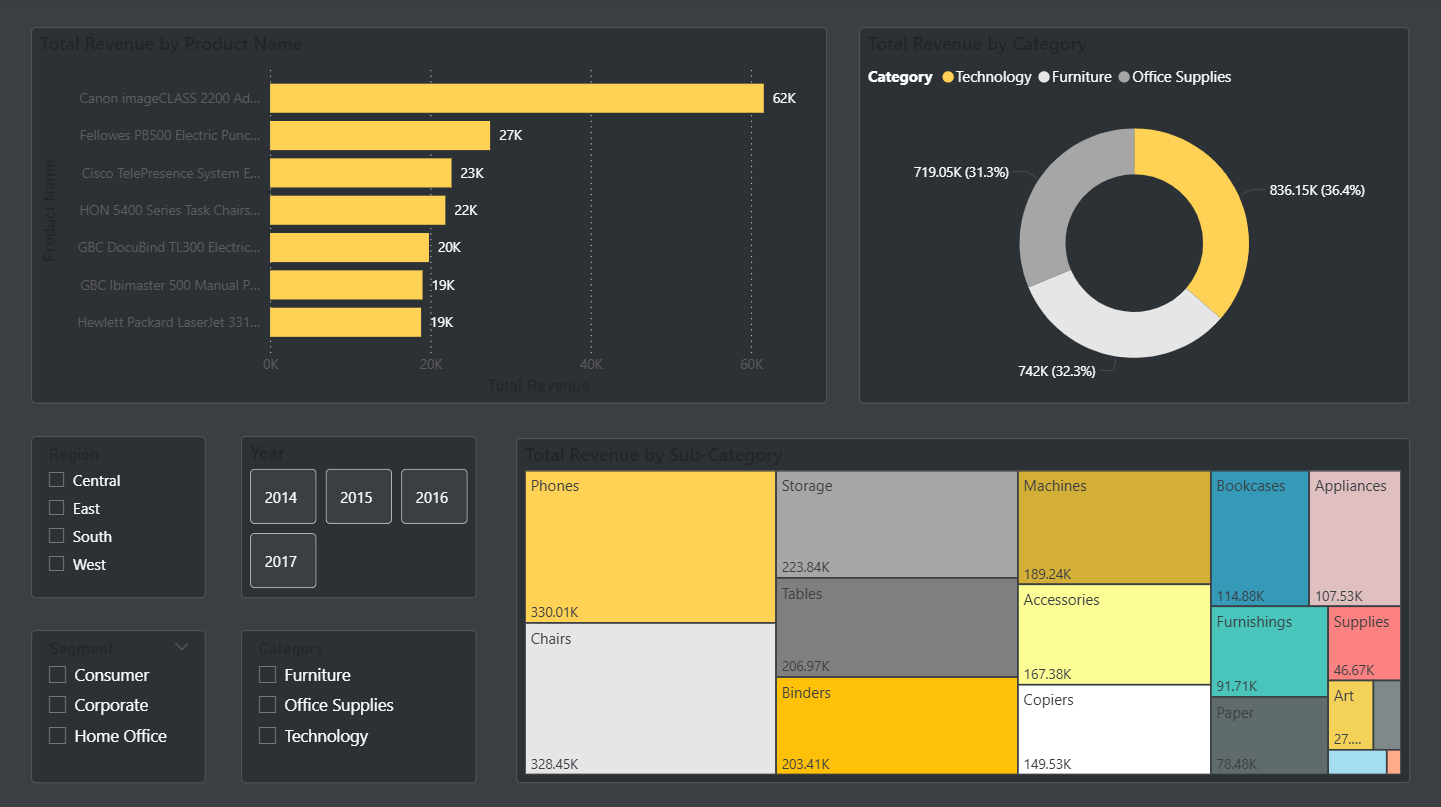

This screenshot's page, from the dashboard's own definition file:
{"tool":"powerbi","page":{"name":"Product Analytics","canvas":[1280,720],"ordinal":1},"visuals":[{"type":"clusteredBarChart","fields":{"Category":["Orders.Product Name"],"Y":["Date_Table.Total Revenue"]},"box":[28.2,26.4,706.4,333.6],"z":0},{"type":"donutChart","fields":{"Y":["Date_Table.Total Revenue"],"Category":["Orders.Category"]},"box":[762.7,26.4,488.2,333.6],"z":1000},{"type":"treemap","fields":{"Group":["Orders.Sub-Category"],"Values":["Date_Table.Total Revenue"]},"box":[458.2,390.9,792.7,306.4],"z":2000},{"type":"slicer","fields":{"Values":["Orders.Segment"]},"box":[28.2,560.9,155.5,136.4],"z":3000},{"type":"slicer","fields":{"Values":["Orders.Region"]},"box":[28.2,389.1,155.5,143.6],"z":4000},{"type":"slicer","fields":{"Values":["Orders.Category"]},"box":[214.5,560.9,209.1,136.4],"z":5000},{"type":"advancedSlicerVisual","fields":{"Values":["Date_Table.Year"]},"box":[215,389.1,209.1,144],"z":6000}]}

Visuals, with their boxes in screenshot pixels (x1, y1, x2, y2), scaled from the page's 1280x720 canvas onto the 1441x807 screenshot:
clusteredBarChart - Orders.Product Name x Date_Table.Total Revenue: 32:30:827:404
donutChart - Date_Table.Total Revenue x Orders.Category: 859:30:1408:404
treemap - Orders.Sub-Category x Date_Table.Total Revenue: 516:438:1408:782
slicer - Orders.Segment: 32:629:207:782
slicer - Orders.Region: 32:436:207:597
slicer - Orders.Category: 241:629:477:782
advancedSlicerVisual - Date_Table.Year: 242:436:477:598
